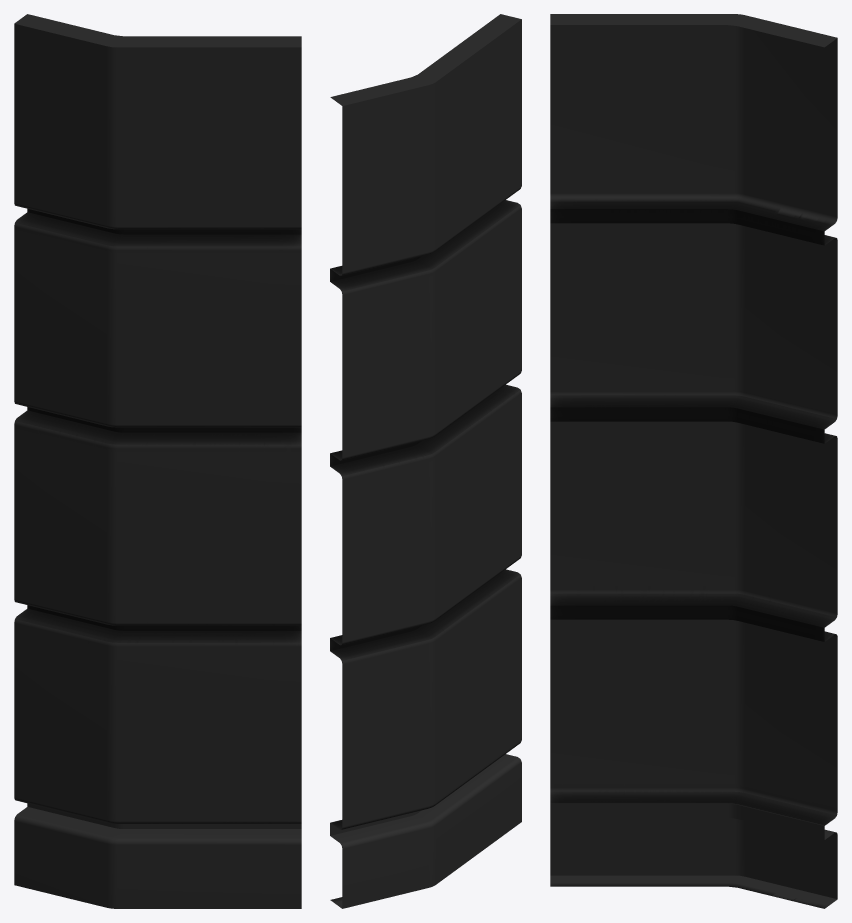
The model's file is XOB_ROT_SW.fbx.
The picture shows the model from 3 angles, left to right: view 1: azimuth 90°, elevation 25°; view 2: azimuth 150°, elevation 25°; view 3: azimuth 270°, elevation 25°; orthographic projection. The views are drawn at different scales.
Visible parts, largest first — view 1: XOB_ROT_SW; view 2: XOB_ROT_SW; view 3: XOB_ROT_SW.
Boxes of the visible parts, x1,y1,x2,y2 form: XOB_ROT_SW: (14,14,301,908); XOB_ROT_SW: (330,14,521,908); XOB_ROT_SW: (550,14,837,908).
Bounding box in the file's own units: 0.375 × 4.5 × 1.36.
